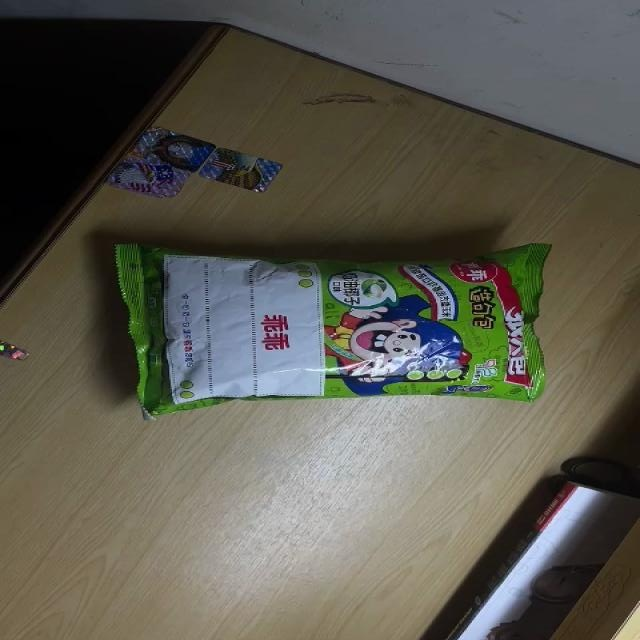Good-Luck: (112, 242, 557, 420)
